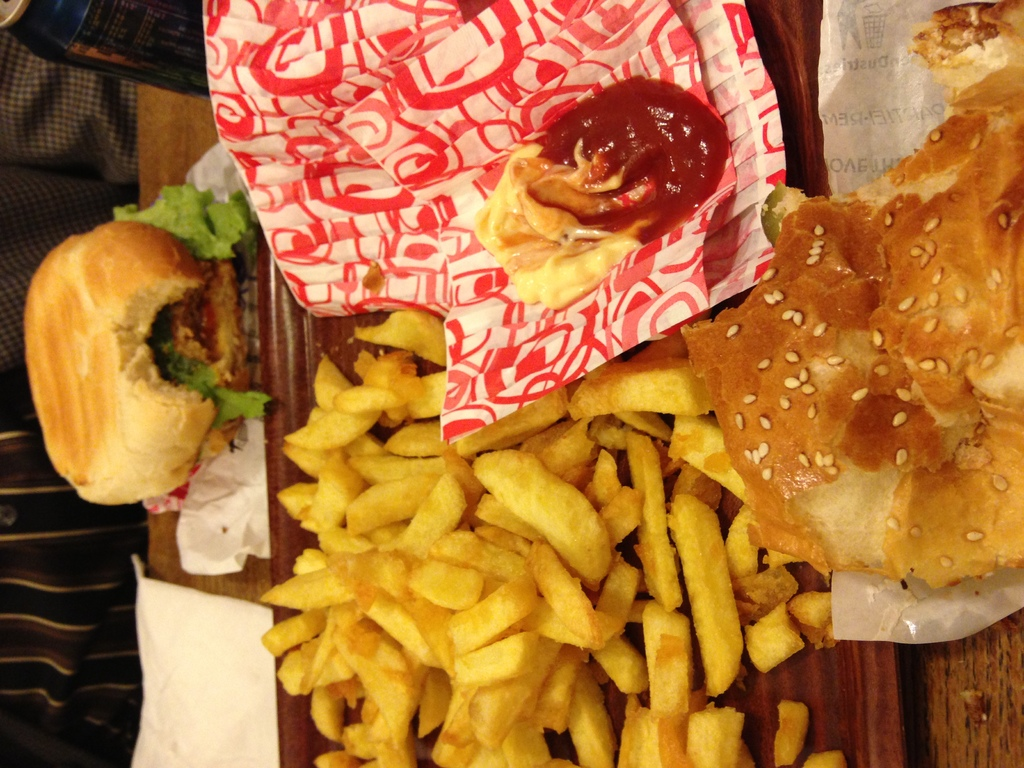Hamburger: (678, 0, 1023, 592), (24, 179, 270, 507)
